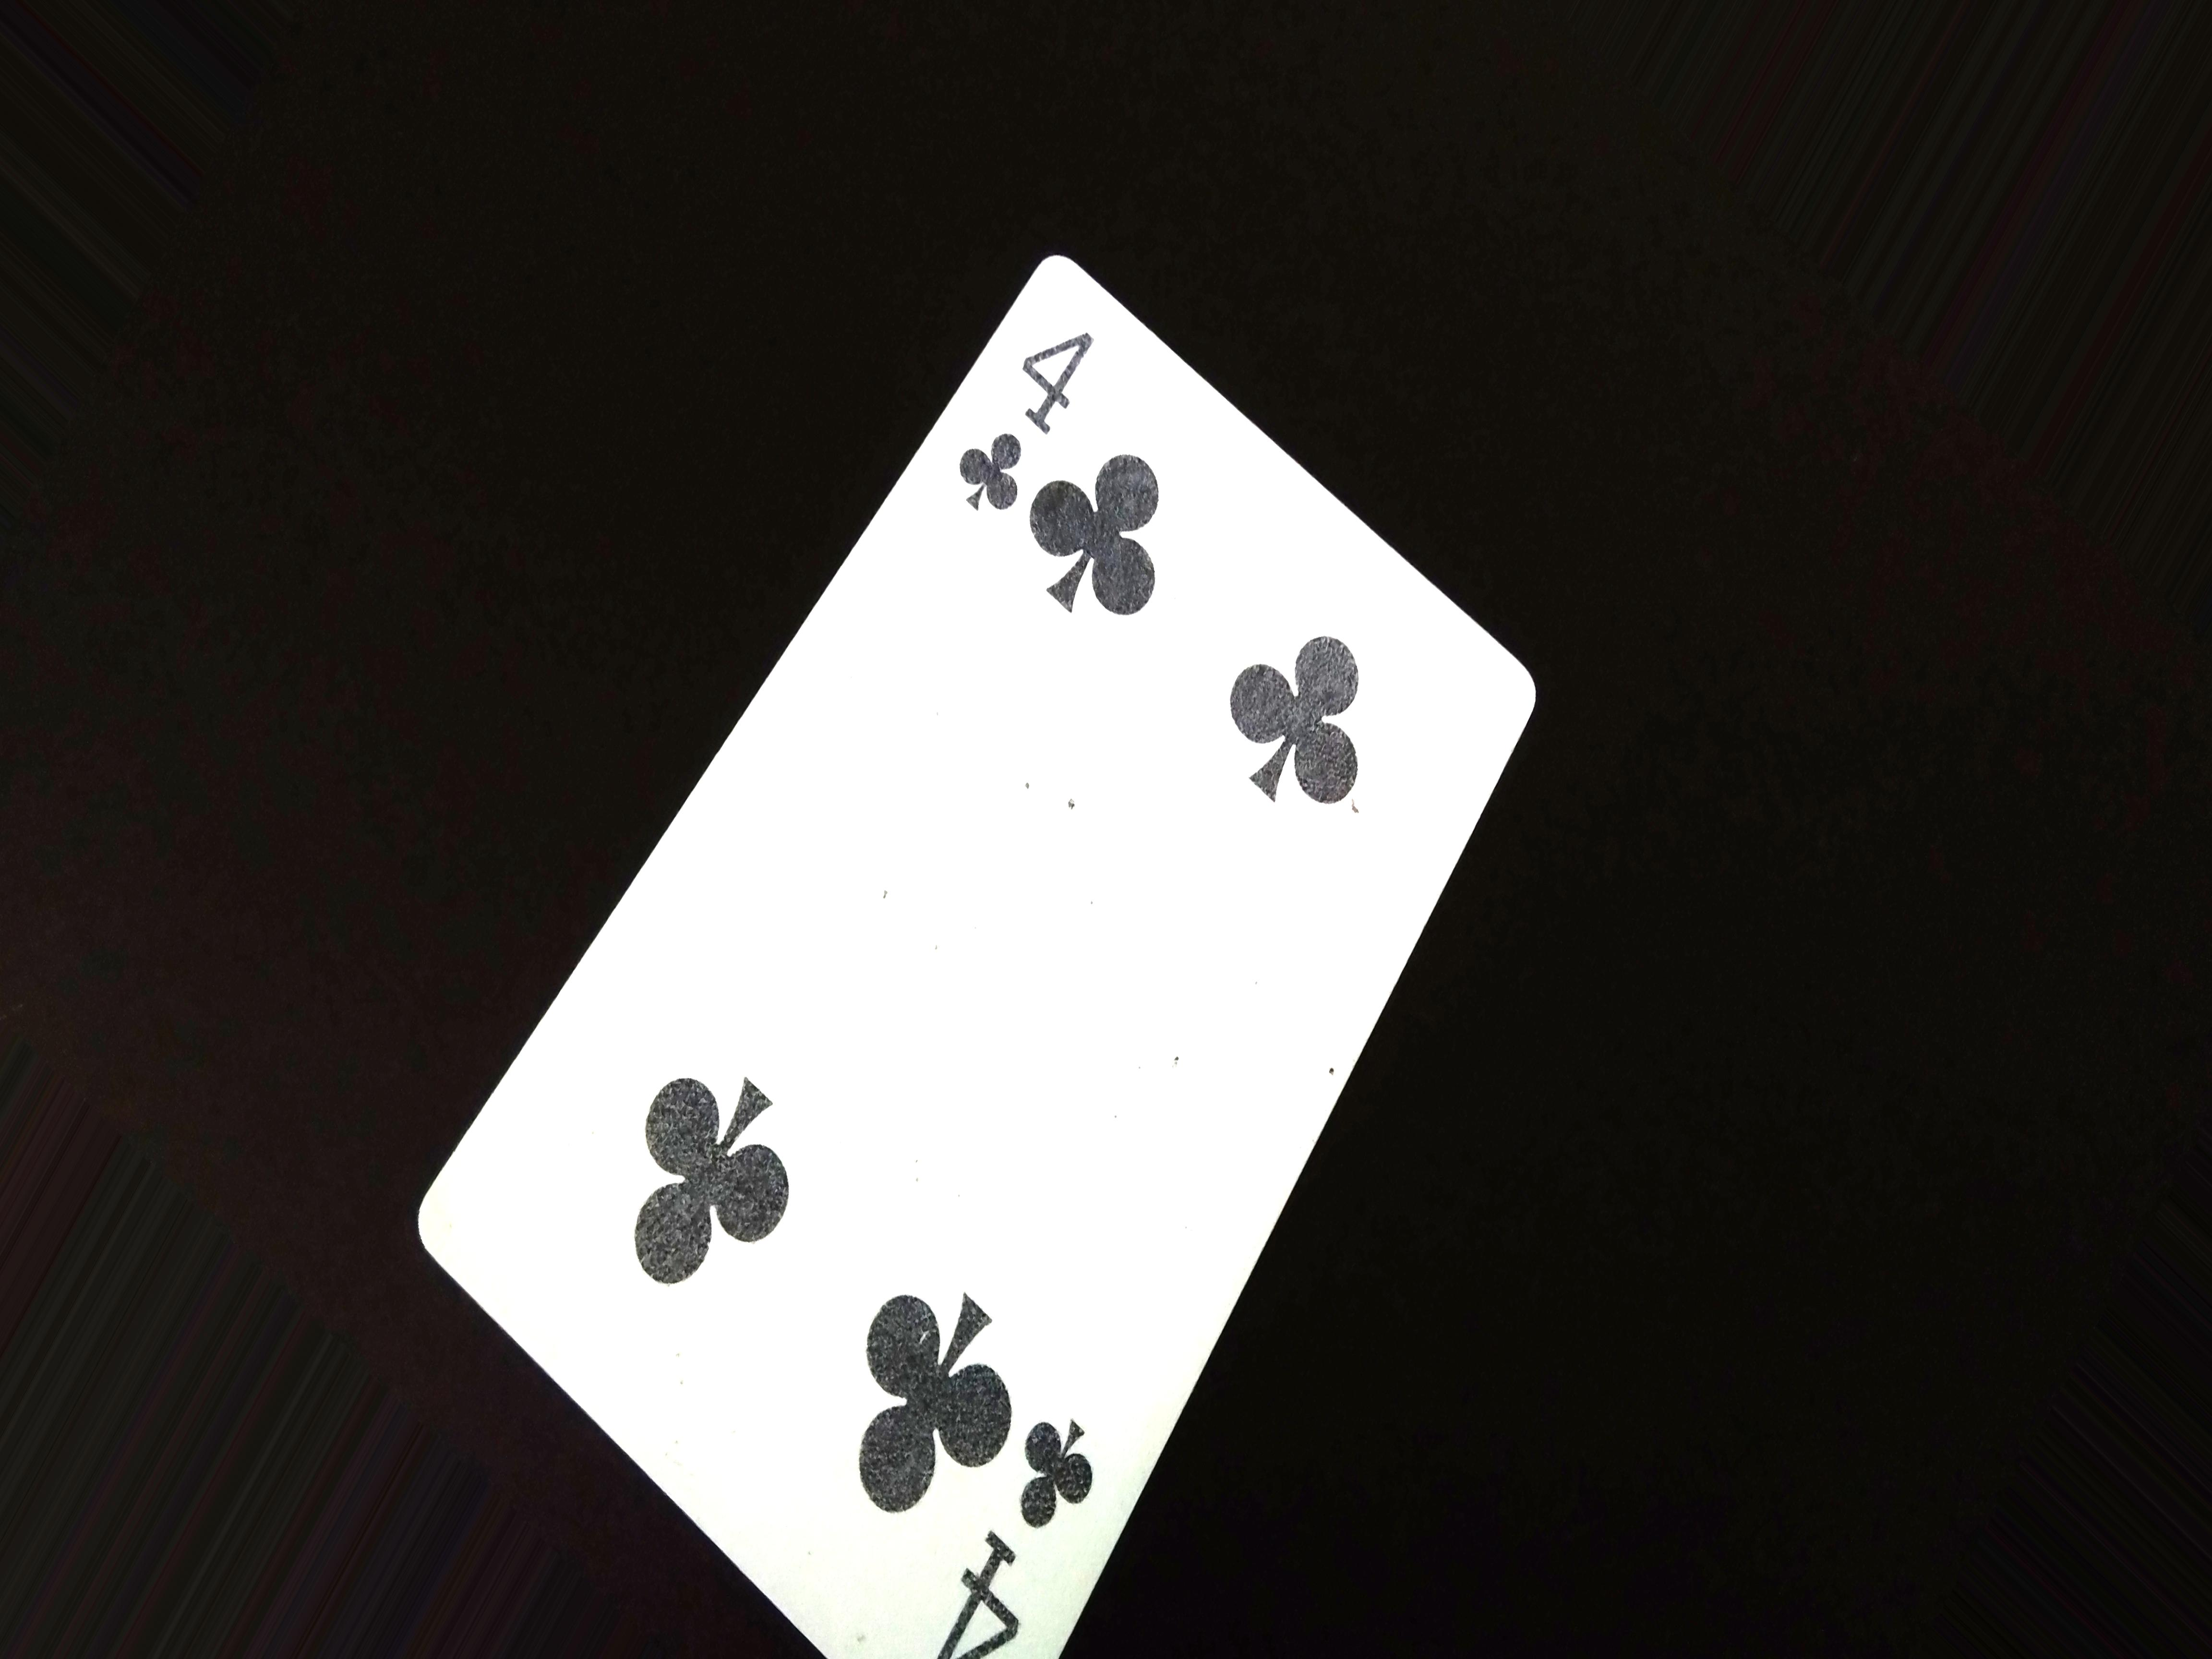4C: (946, 284, 1127, 525)
